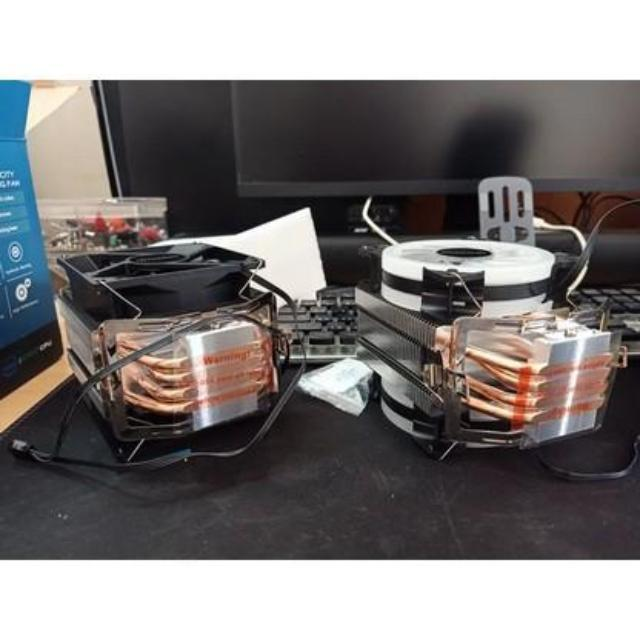CPU_Fan: (355, 239, 610, 464), (56, 253, 282, 444)
